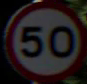Speed limit: (6, 6, 75, 68)
